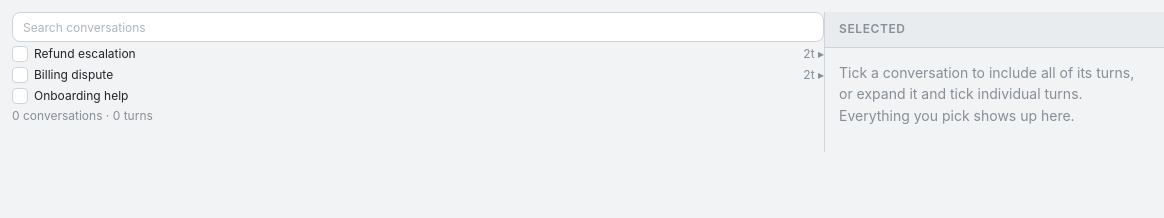
Test case: SelectStep — the inverting split › collapses the grid to a ribbon on the first pick
The width and height of the screenshot is (1164, 218).
Expected: the text "Refund escalation" is shown, [34,46,136,63]
Click the checkbox named "Select Refund escalation" at coordinates (20, 54), box [12,46,28,62]
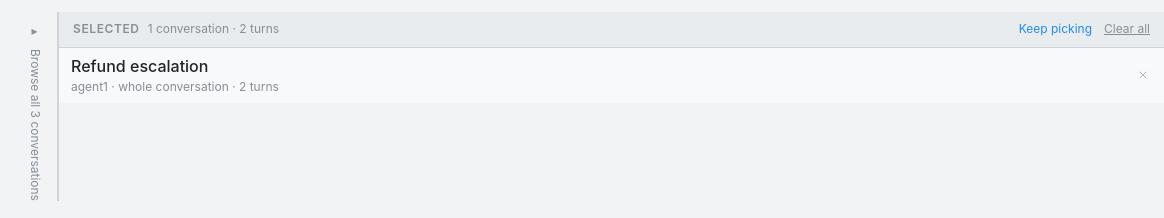
Now the button with test id "browse-ribbon" is shown, box [12,12,58,200]
